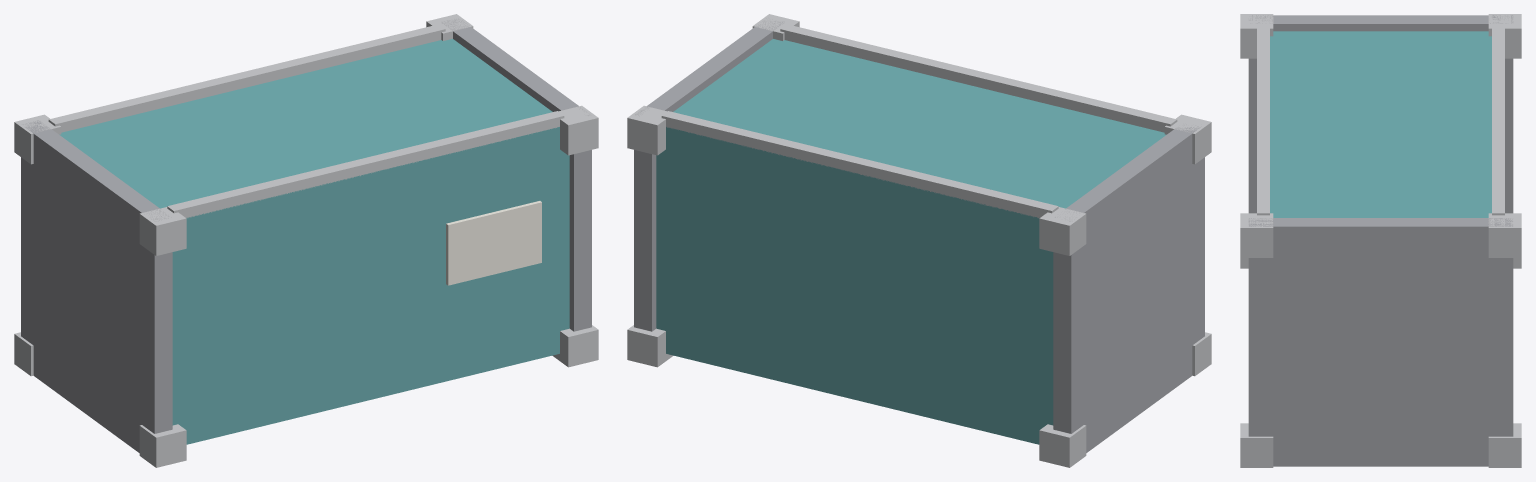
Rendered from cargo_pod_standard.glb.
The picture shows the model from 3 angles, left to right: view 1: azimuth 30°, elevation 25°; view 2: azimuth 150°, elevation 25°; view 3: azimuth 270°, elevation 25°; orthographic projection.
Visible parts, largest first — view 1: pod_body, pod_enda, pod_casts, pod_endf, pod_rails, pod_railp, pod_plate; view 2: pod_body, pod_enda, pod_casts, pod_endf, pod_railp, pod_rails; view 3: pod_endf, pod_body, pod_casts, pod_enda, pod_railp, pod_rails.
Boxes of the visible parts, bbox=[...] form: pod_body: bbox=[59, 39, 569, 444]; pod_enda: bbox=[21, 120, 172, 452]; pod_casts: bbox=[14, 14, 598, 467]; pod_endf: bbox=[441, 18, 591, 331]; pod_rails: bbox=[167, 111, 564, 218]; pod_railp: bbox=[48, 24, 445, 132]; pod_plate: bbox=[446, 201, 541, 285]; pod_body: bbox=[656, 39, 1166, 444]; pod_enda: bbox=[1053, 124, 1204, 452]; pod_casts: bbox=[627, 14, 1211, 467]; pod_endf: bbox=[634, 18, 784, 331]; pod_railp: bbox=[661, 111, 1058, 218]; pod_rails: bbox=[780, 24, 1177, 132]; pod_endf: bbox=[1248, 218, 1513, 466]; pod_body: bbox=[1270, 31, 1491, 217]; pod_casts: bbox=[1240, 14, 1521, 467]; pod_enda: bbox=[1248, 15, 1513, 213]; pod_railp: bbox=[1492, 24, 1504, 215]; pod_rails: bbox=[1257, 24, 1269, 215].
Bounding box in the file's own units: 6.12 × 3.23 × 3.4.
